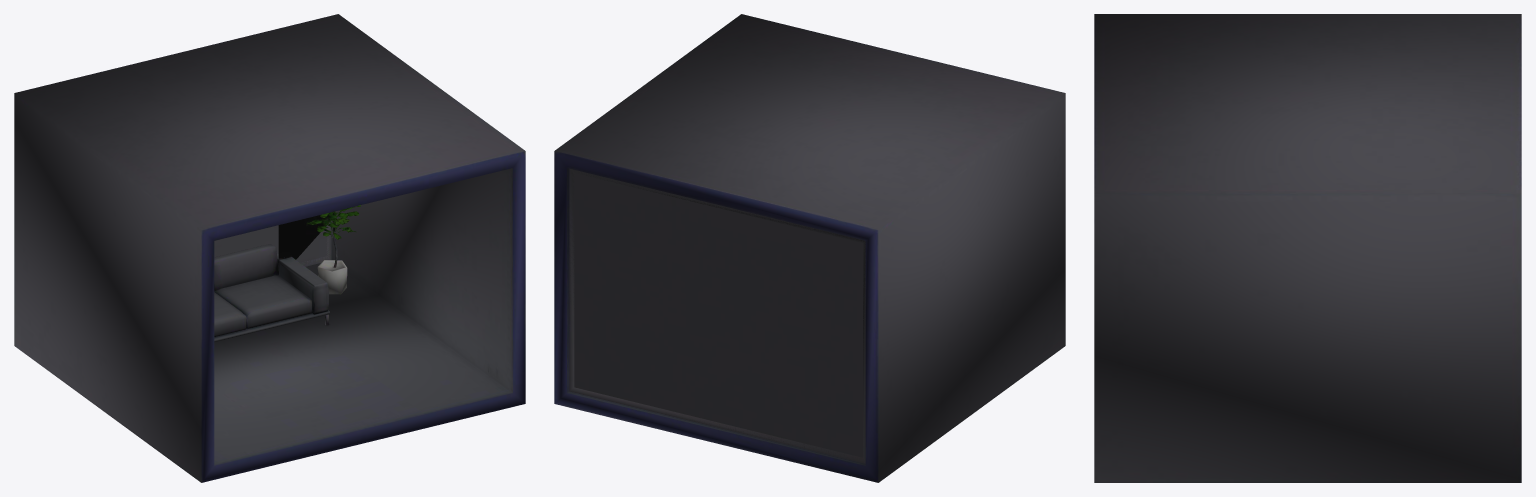
File: original_glb.glb
3 renders of one model, left to right at view 1: azimuth 30°, elevation 25°; view 2: azimuth 150°, elevation 25°; view 3: azimuth 270°, elevation 25°, orthographic. The views are drawn at different scales.
Visible parts, largest first — view 1: Penthouse; view 2: Penthouse; view 3: Penthouse.
Part boxes in pixels (left/top/right/bottom): Penthouse: left=14, top=14, right=525, bottom=482; Penthouse: left=554, top=14, right=1065, bottom=482; Penthouse: left=1094, top=14, right=1521, bottom=482.
Size of the model in its own units: 0.998 by 0.7441 by 0.998.
1 material, 1 textured.
